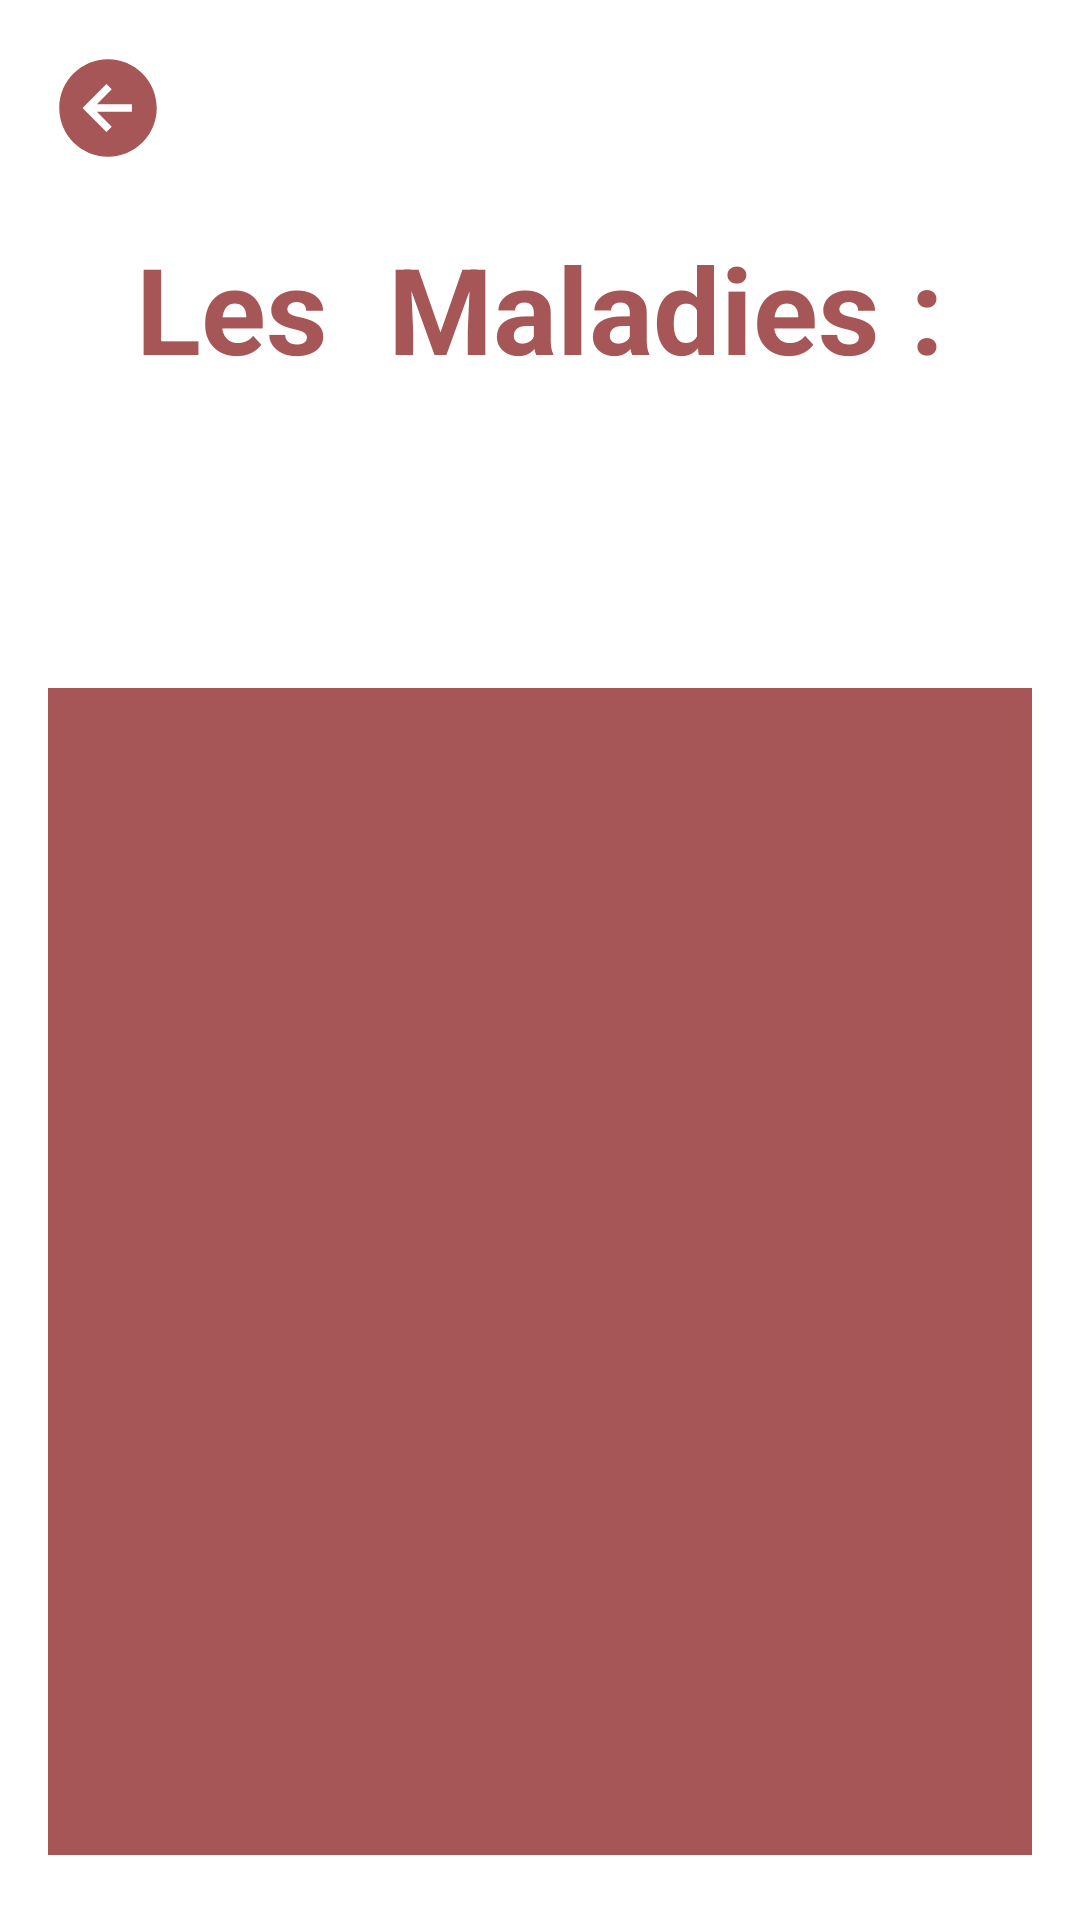

Where to tap for icons on this 1080×1920 app screen, as [x,y]:
arrow back circle sharp: [108,108]
